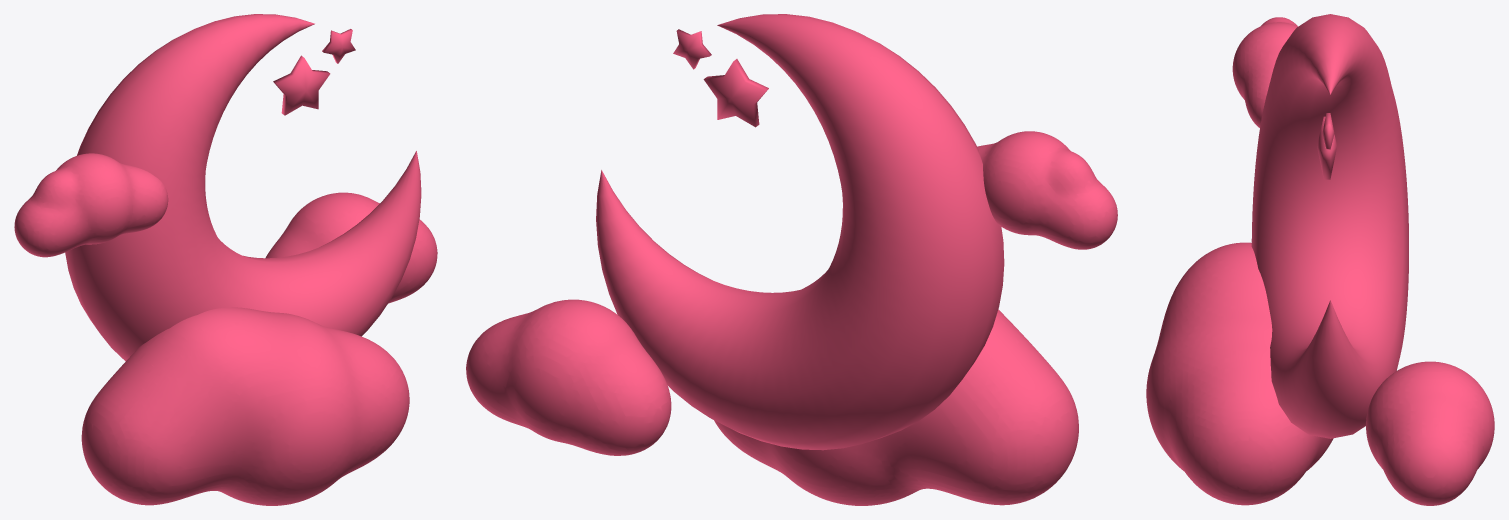
File: dream.glb
The picture shows the model from 3 angles, left to right: view 1: azimuth 30°, elevation 25°; view 2: azimuth 150°, elevation 25°; view 3: azimuth 270°, elevation 25°; orthographic projection. The views are drawn at different scales.
Parts seen in each view (by area): view 1: moon, cloud2, cloud1, cloud3, star1, star2; view 2: moon, cloud2, cloud3, cloud1, star1, star2; view 3: moon, cloud2, cloud3, cloud1, star1.
Part boxes in pixels (x1,y1,x2,y2): moon: (65, 14, 421, 360); cloud2: (81, 307, 409, 505); cloud1: (14, 153, 168, 257); cloud3: (265, 192, 437, 303); star1: (273, 55, 330, 115); star2: (322, 29, 355, 63); moon: (596, 14, 1004, 450); cloud2: (714, 309, 1078, 505); cloud3: (466, 299, 671, 455); cloud1: (977, 131, 1117, 249); star1: (703, 59, 768, 127); star2: (673, 29, 711, 69); moon: (1251, 14, 1408, 438); cloud2: (1146, 242, 1333, 505); cloud3: (1366, 361, 1494, 505); cloud1: (1232, 17, 1297, 127); star1: (1317, 116, 1337, 179).
Bounding box in the file's own units: 1.79 × 1.56 × 1.08.
